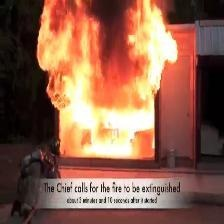fire: (38, 0, 181, 154)
